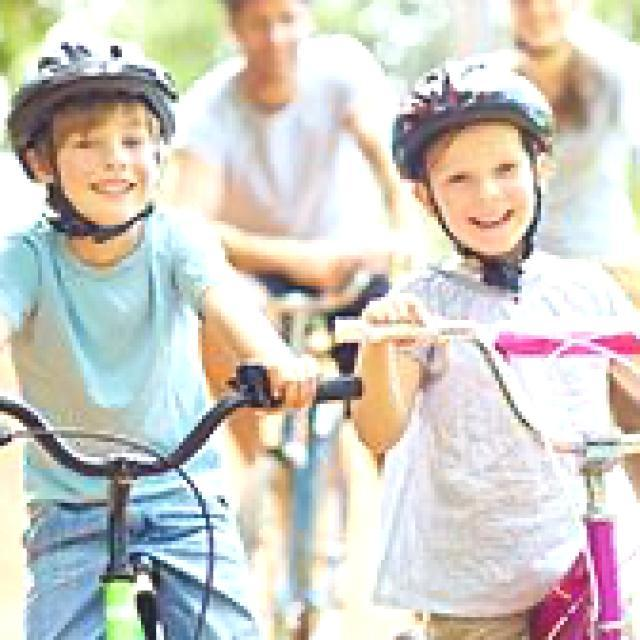Helmet: (381, 42, 568, 282), (0, 22, 186, 236)
